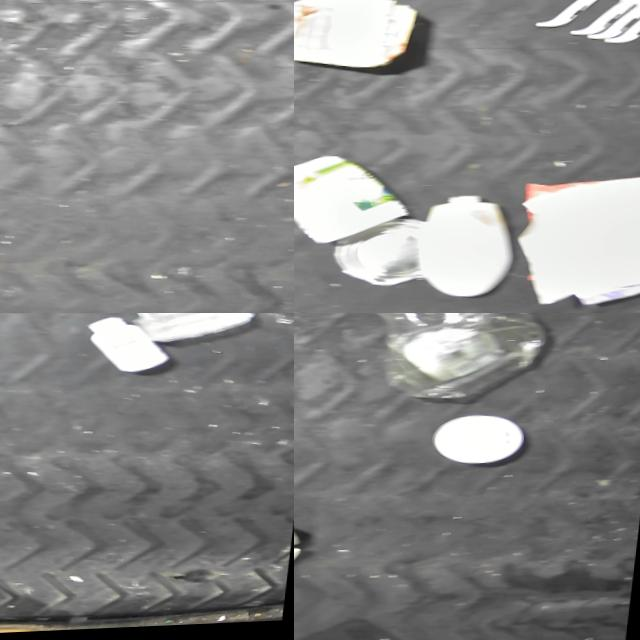can: (334, 217, 434, 293)
milk_jug: (512, 155, 640, 313), (294, 0, 420, 77)
